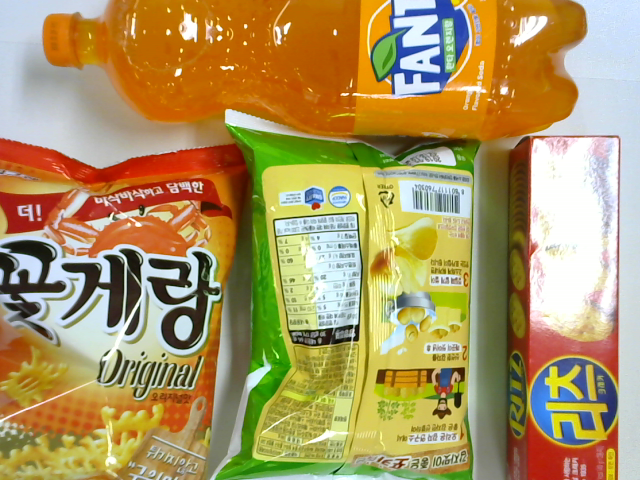Crabrang: (1, 138, 249, 480)
Hwanta_Orange_1.5L: (42, 1, 589, 140)
Pocachip_Onion: (208, 107, 480, 480)
Ritz_Cracker: (505, 137, 620, 480)
